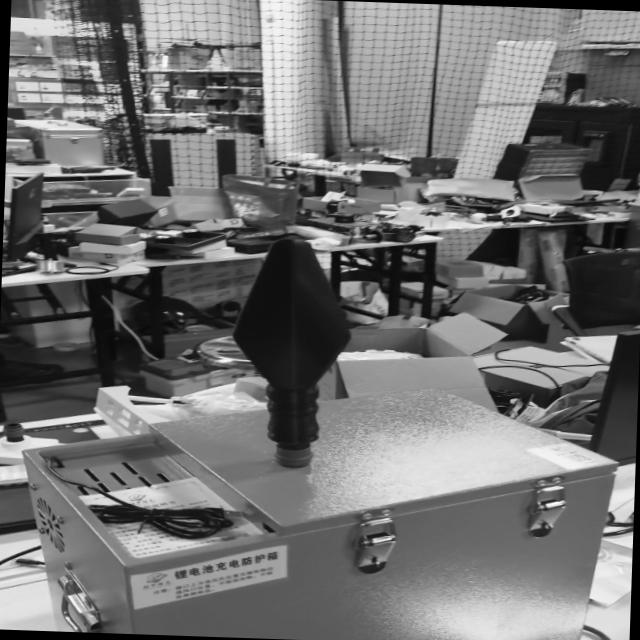base: (270, 444, 316, 466)
